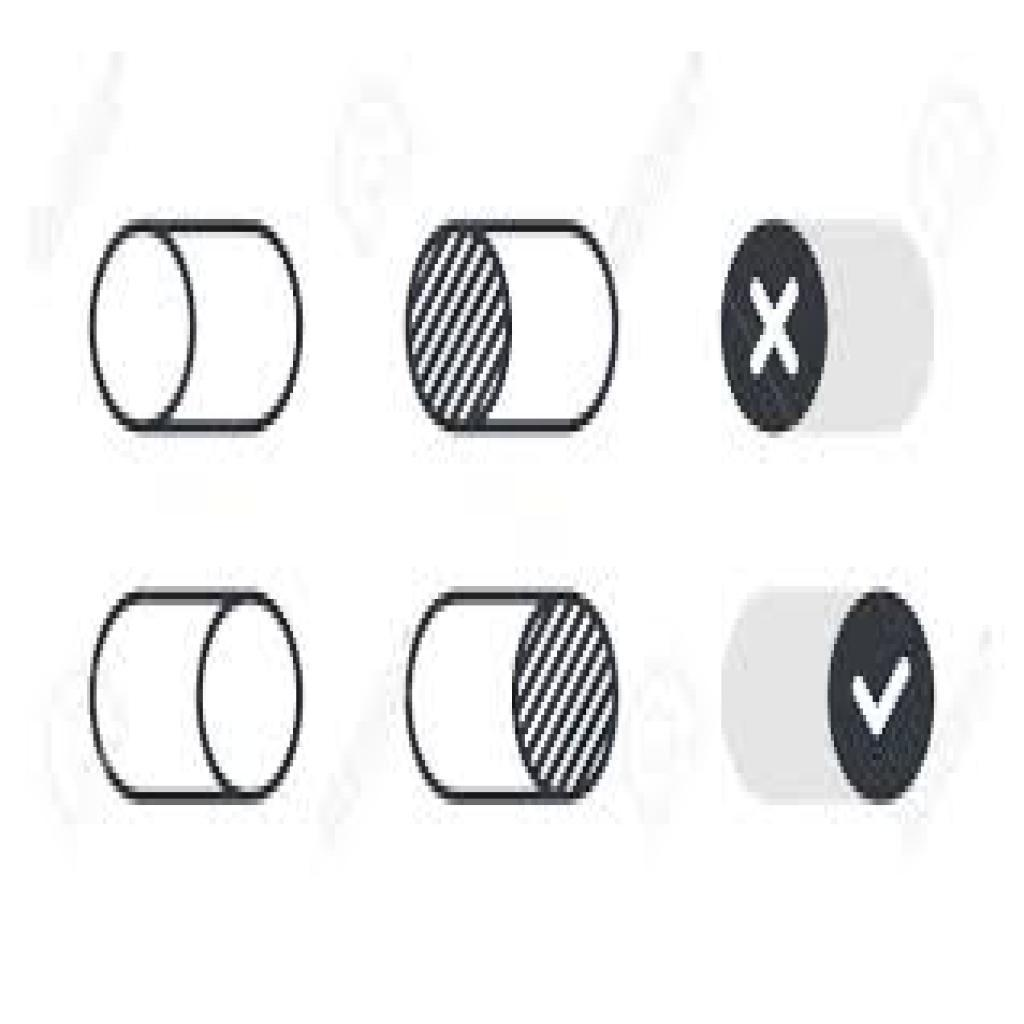switch: (727, 588, 938, 816), (405, 588, 621, 807), (727, 218, 935, 442), (91, 593, 305, 807), (408, 219, 620, 435), (92, 225, 302, 436)
